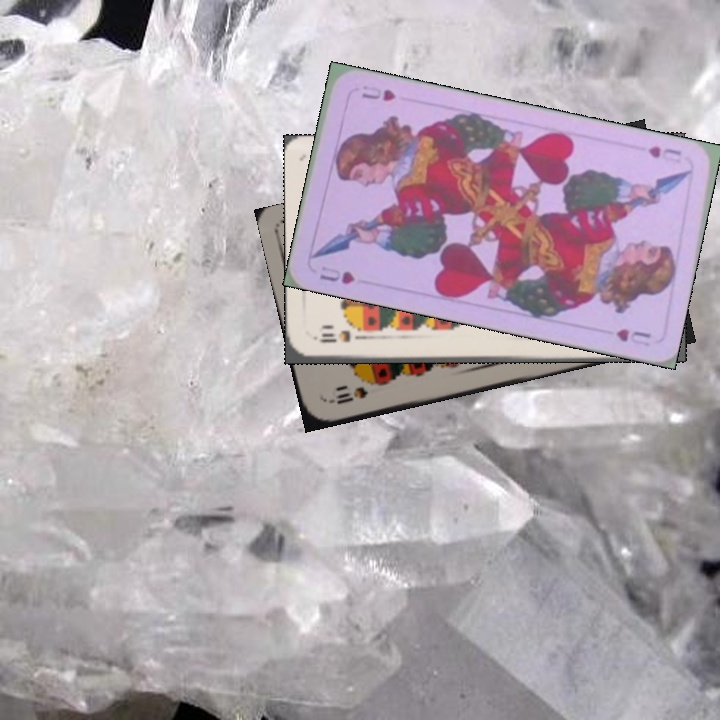HU: (315, 262, 357, 287), (644, 141, 684, 166)
S10: (325, 383, 371, 407), (310, 328, 369, 345)
